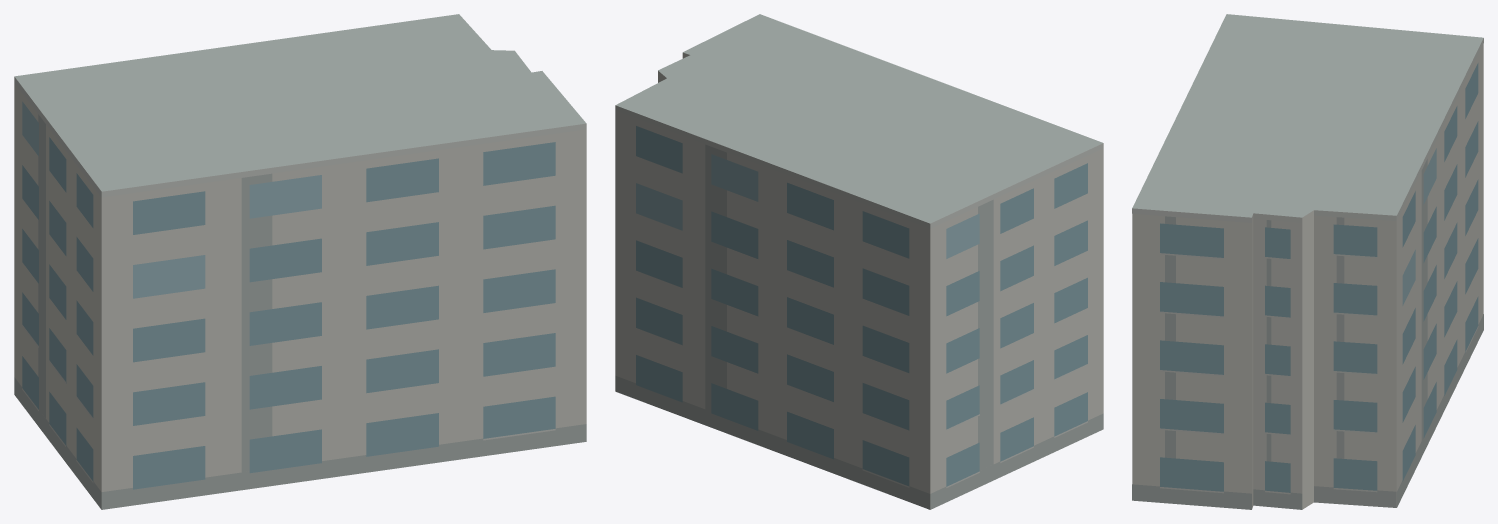
Rendered from survey-upis-32996503.glb.
3 views of the same model, side by side, from view 1: azimuth 30°, elevation 25°; view 2: azimuth 150°, elevation 25°; view 3: azimuth 270°, elevation 25° (orthographic). The views are drawn at different scales.
Visible parts, largest first — view 1: survey-upis-32996503.tmp; view 2: survey-upis-32996503.tmp; view 3: survey-upis-32996503.tmp.
Boxes of the visible parts, left/top/right/bottom form: survey-upis-32996503.tmp: left=14, top=14, right=586, bottom=509; survey-upis-32996503.tmp: left=615, top=14, right=1103, bottom=509; survey-upis-32996503.tmp: left=1132, top=14, right=1483, bottom=509.
Size of the model in its own units: 19.59 by 13.1 by 14.3.
